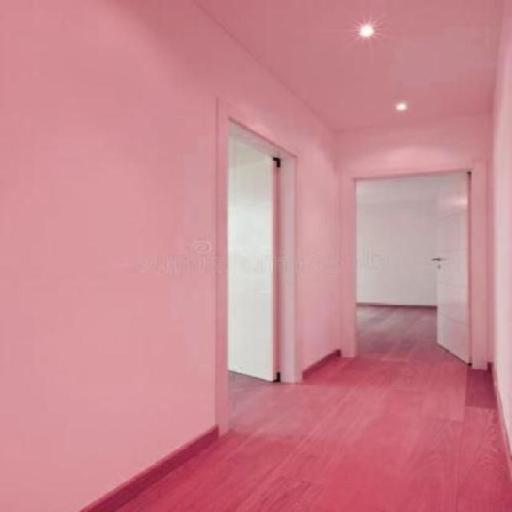door: (214, 93, 304, 438), (340, 160, 488, 368)
